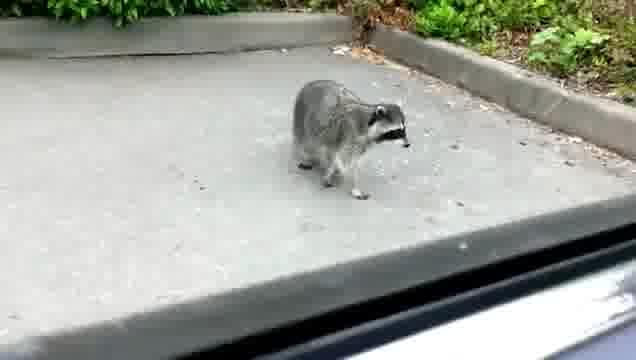raccoon: (291, 74, 411, 202)
